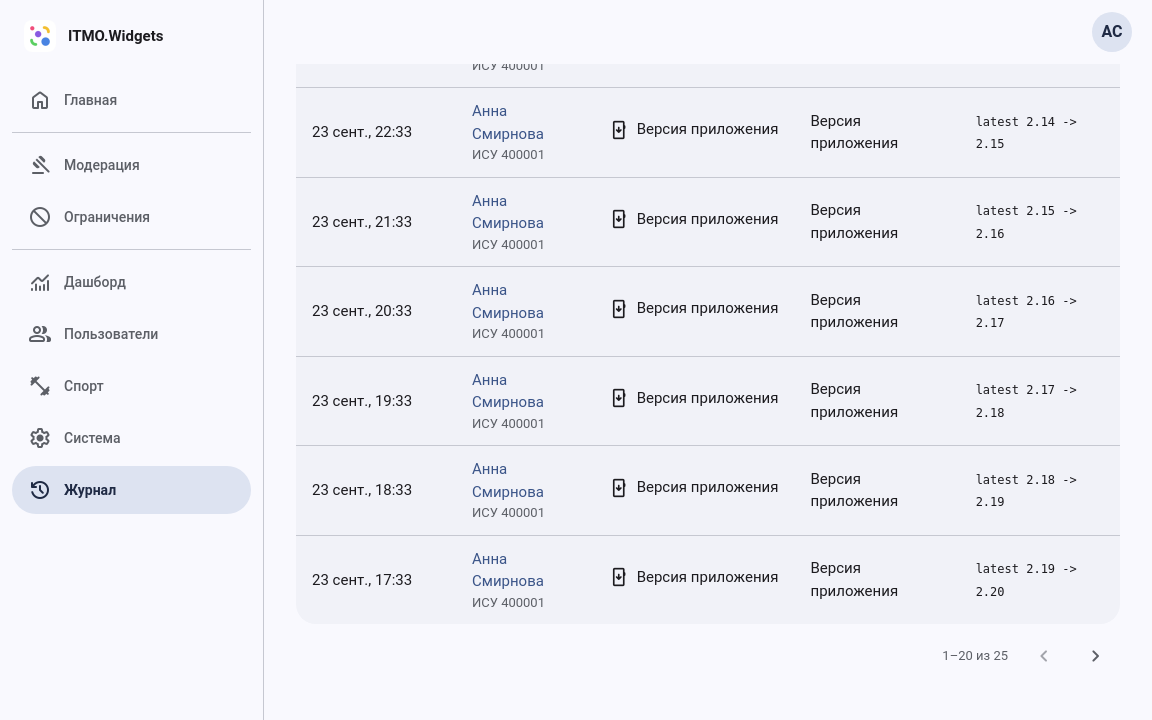
Test: AuditPage › pages through older entries
(page scrolled)
Expected: the text "1–20 из 25" is shown, [942, 646, 1008, 666]
Click the button named "Следующая страница". click: (1096, 656)
box: [1072, 632, 1120, 680]
(page scrolled)
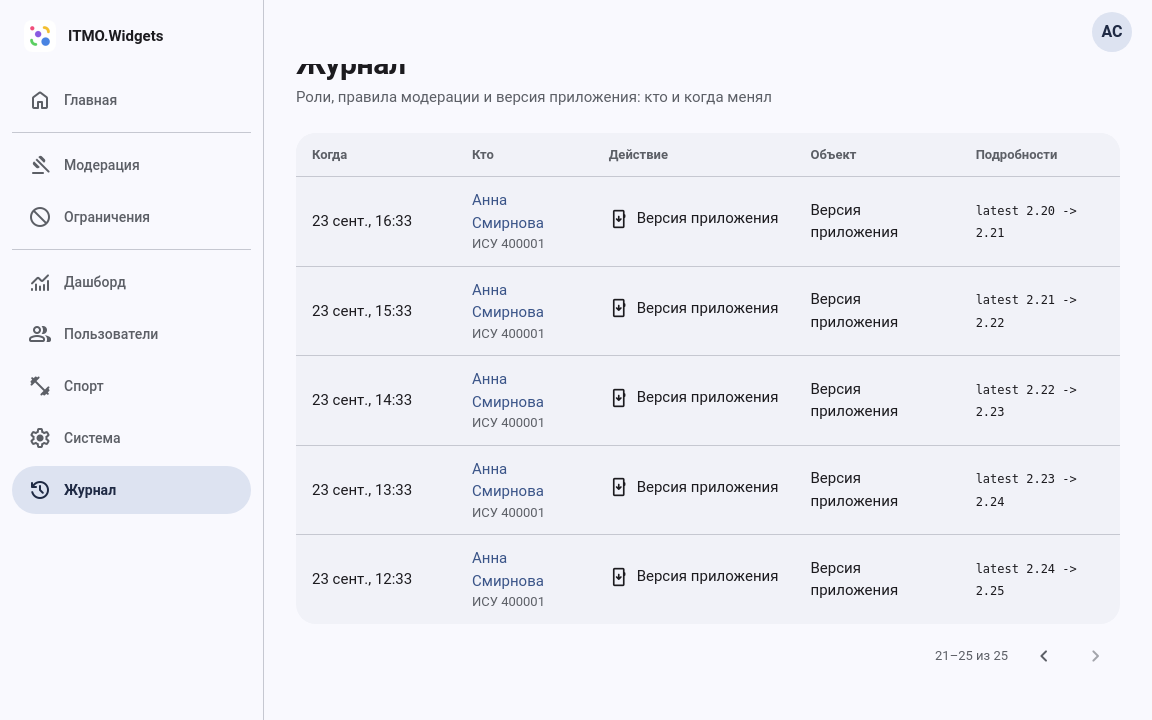
Now the text "21–25 из 25" is shown, box [935, 646, 1008, 665]
Now the number of rows is 6, box [296, 132, 1120, 177]; [296, 177, 1120, 266]; [296, 266, 1120, 356]; [296, 356, 1120, 446]; [296, 446, 1120, 535]; [296, 535, 1120, 624]
